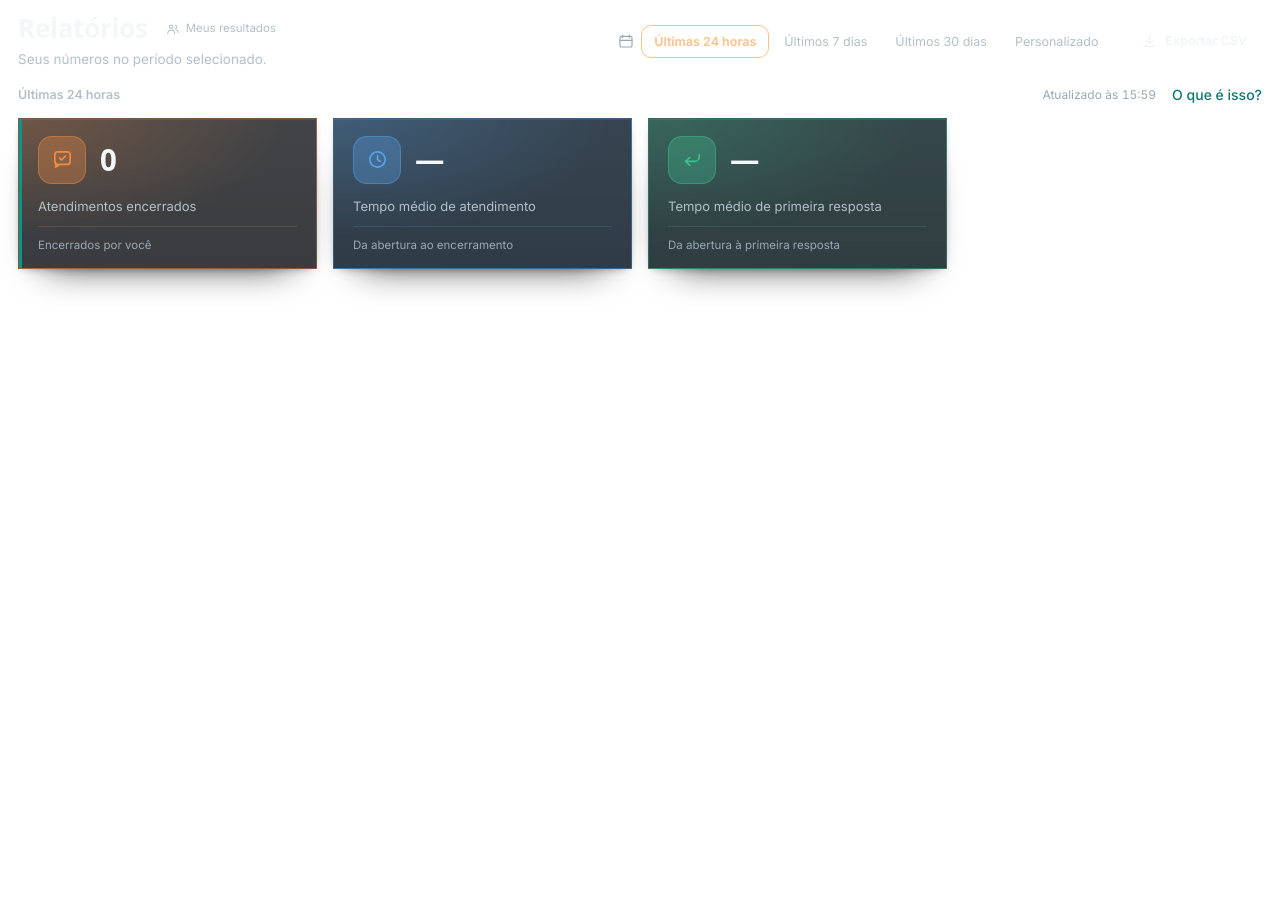
Test: ReportsPage › explica o critério dos tempos
The width and height of the screenshot is (1280, 900).
Step 1. Click the button with aria-label "como os tempos são calculados" → point(1217, 95), box [1172,85,1262,105]
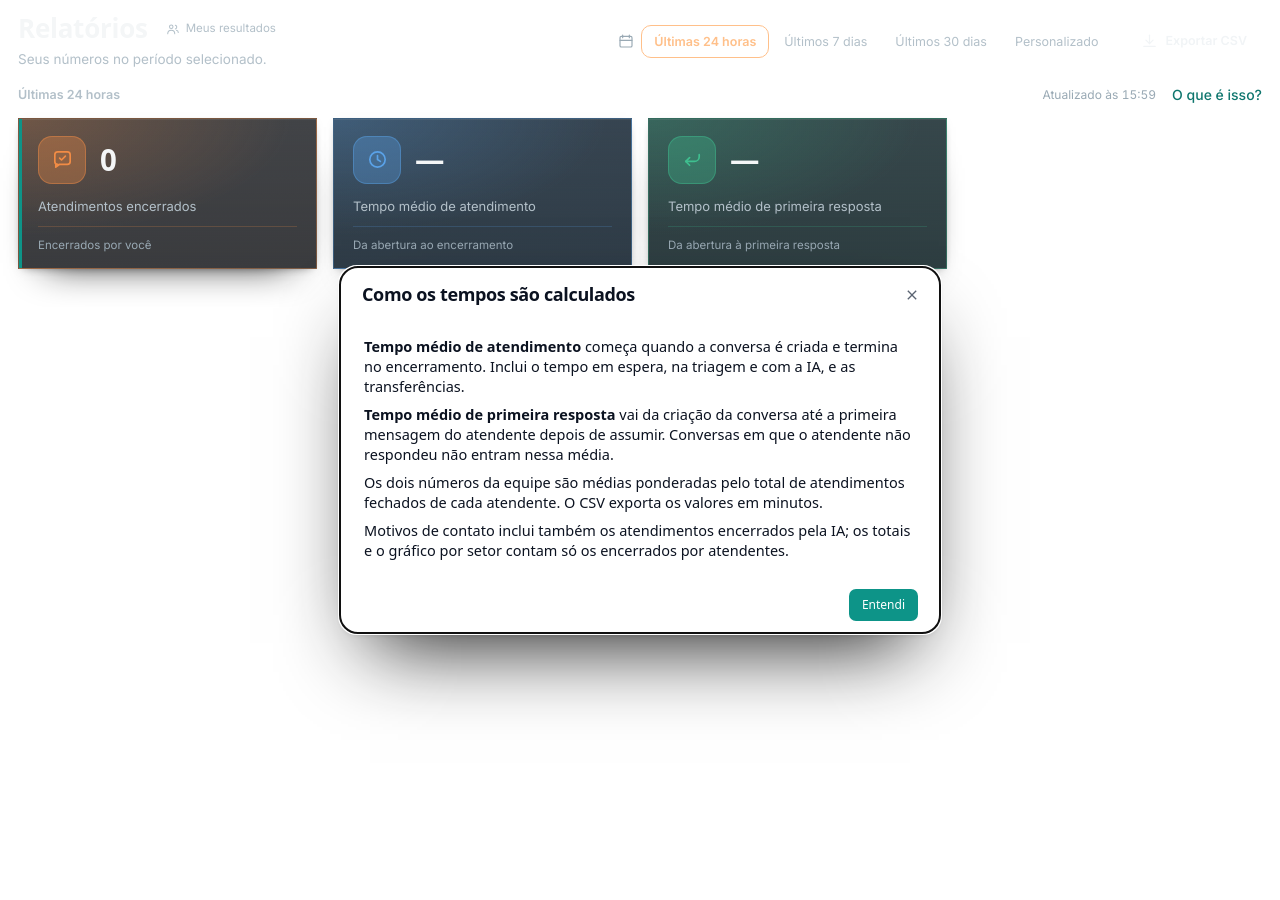
Expected: the dialog shows "começa quando a conversa é criada", [364,336,898,396]
Expected: the dialog shows "inclui o tempo em espera, na triagem e com a IA", [364,336,898,396]
